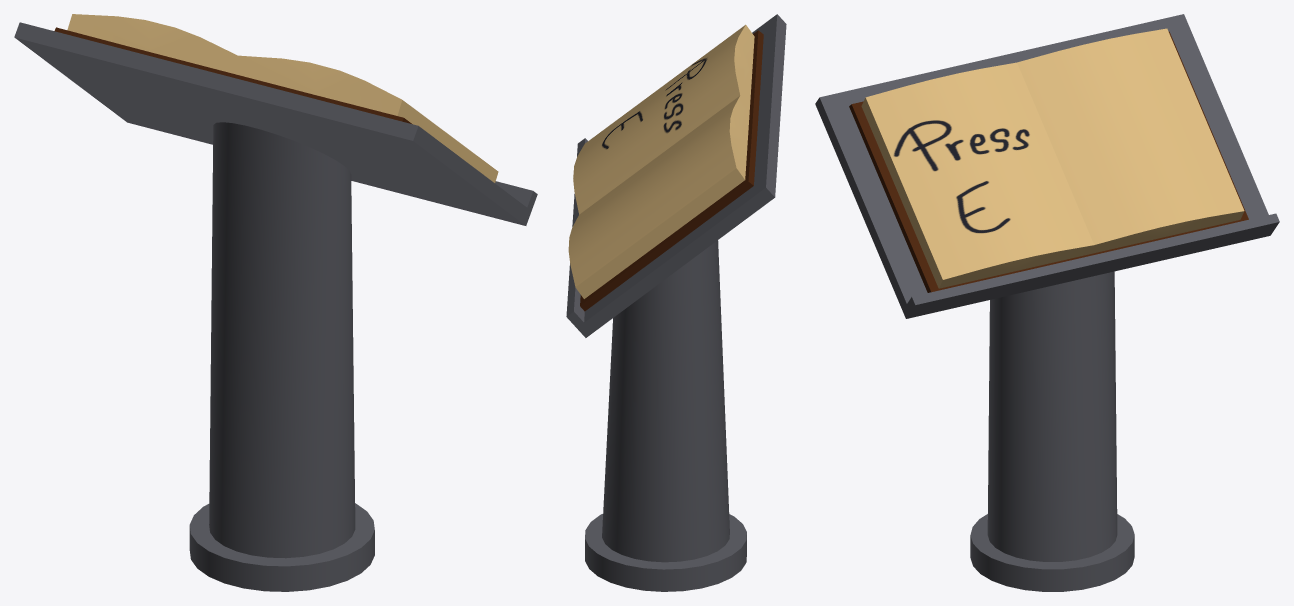
File: Podest.fbx
The picture shows the model from 3 angles, left to right: view 1: azimuth 30°, elevation 25°; view 2: azimuth 150°, elevation 25°; view 3: azimuth 270°, elevation 25°; orthographic projection. The views are drawn at different scales.
Parts seen in each view (by area): view 1: Podest, Buch; view 2: Podest, Buch; view 3: Buch, Podest.
Part boxes in pixels (bbox=[...]): Podest: bbox=[14, 22, 537, 591]; Buch: bbox=[54, 14, 498, 182]; Podest: bbox=[566, 14, 786, 591]; Buch: bbox=[568, 24, 763, 311]; Buch: bbox=[849, 28, 1248, 292]; Podest: bbox=[815, 14, 1279, 591].
Size of the model in its own units: 210 by 287 by 255.
